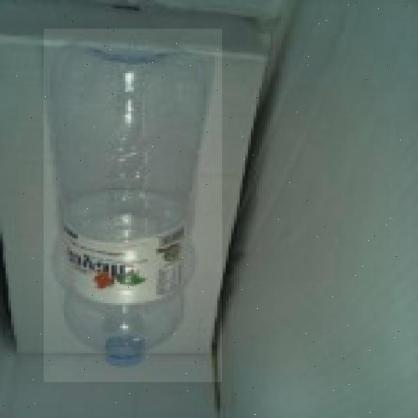bottle: (44, 29, 222, 382)
label: (48, 222, 204, 296)
